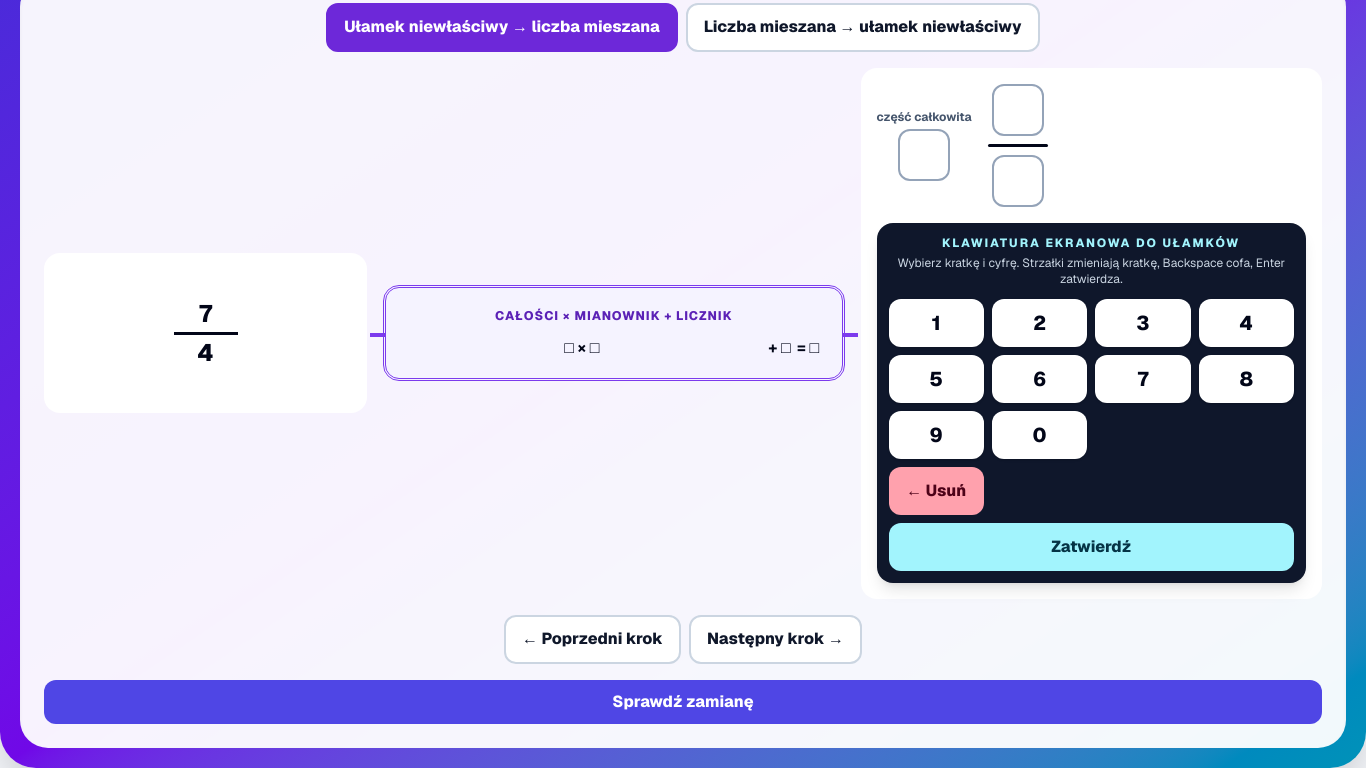
it: FractionLessonL2Model — klawiatura, dotyk, tablet i diagnostyka › utrwala łącznik całości × mianownik + licznik krok po kroku
(page scrolled)
Check: the element showing "całości × mianownik + licznik □ × □ + □ = □" is shown, box [383, 285, 844, 381]
Click the button "Następny krok →" at point(776, 639), box [689, 615, 862, 664]
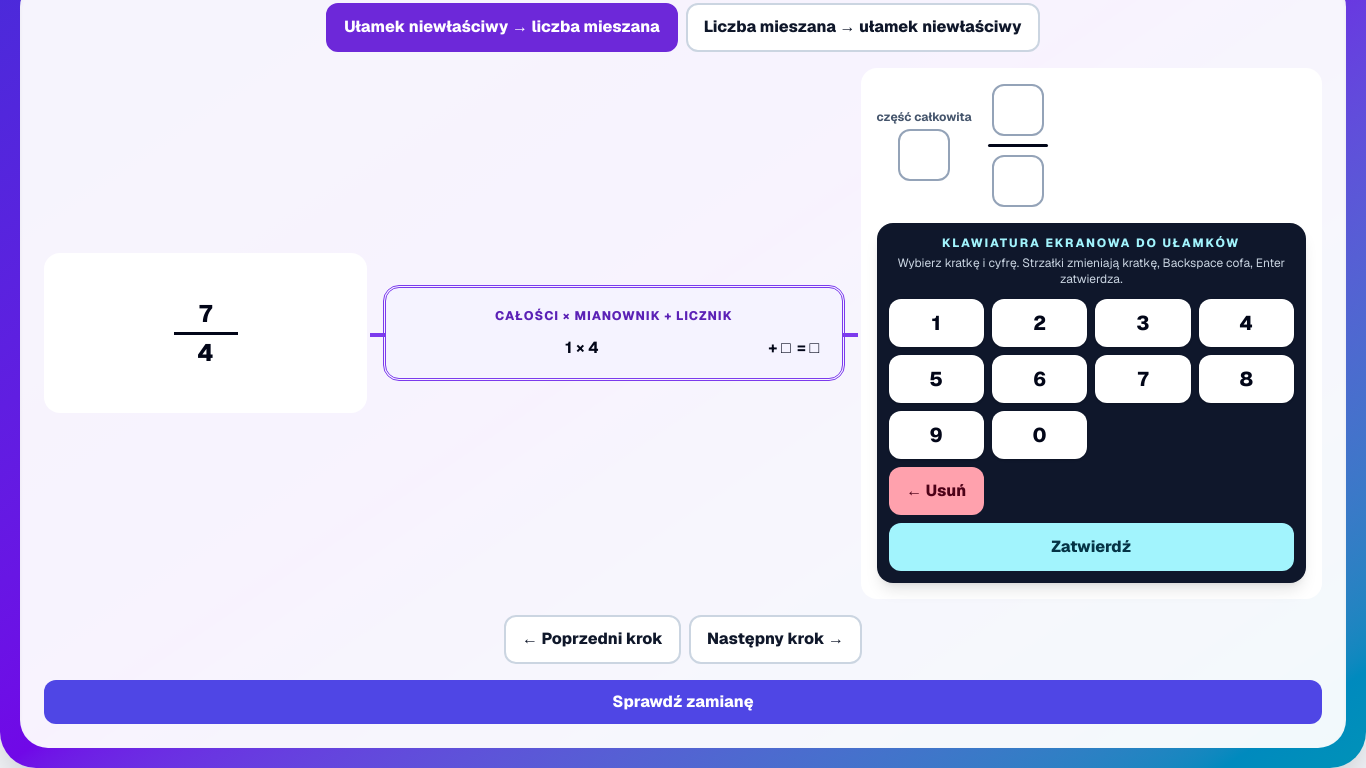
Check: the element showing "całości × mianownik + licznik 1 × 4 + □ = □" is shown, box [383, 285, 844, 381]
